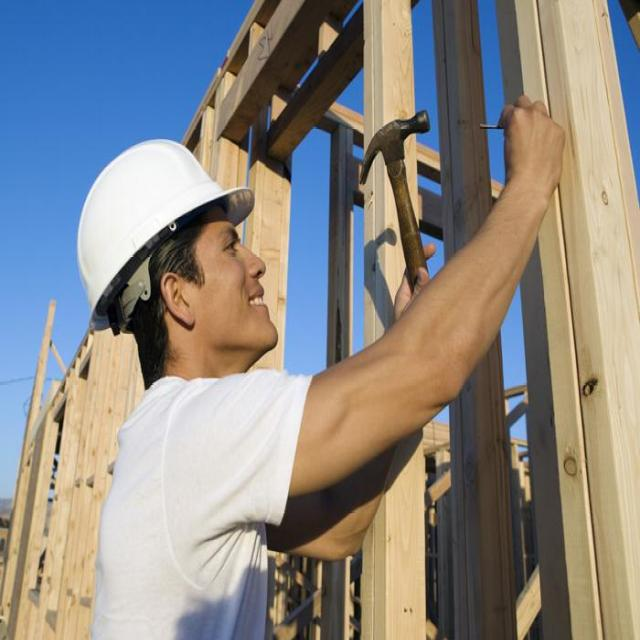Safety-Helmet: (70, 133, 254, 318)
